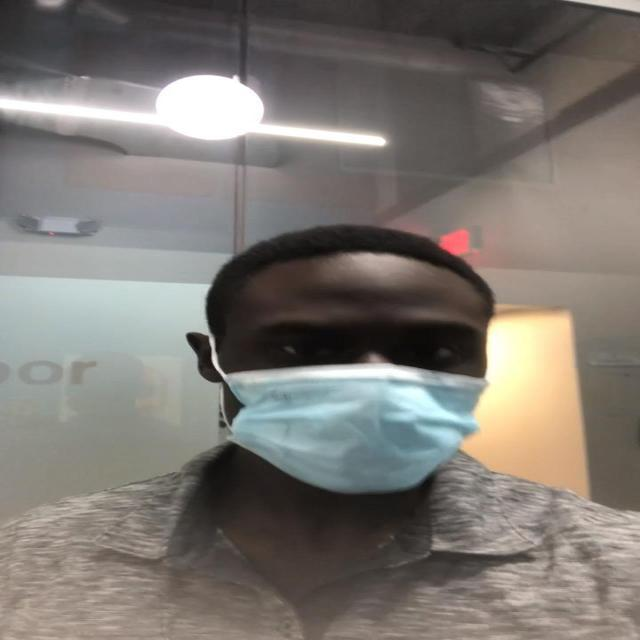face: (206, 255, 492, 491)
